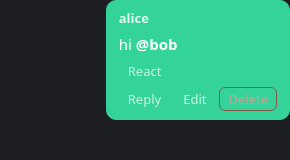
it: MessageList › highlights a mention, and editing still prefills the plain unwrapped body
Expected: the text "@bob" is shown, [136, 34, 178, 54]
Click the button "Edit" at (195, 99), box [174, 87, 216, 111]
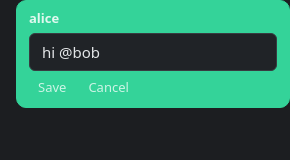
Now the field holds "hi @bob", box [29, 32, 277, 70]
